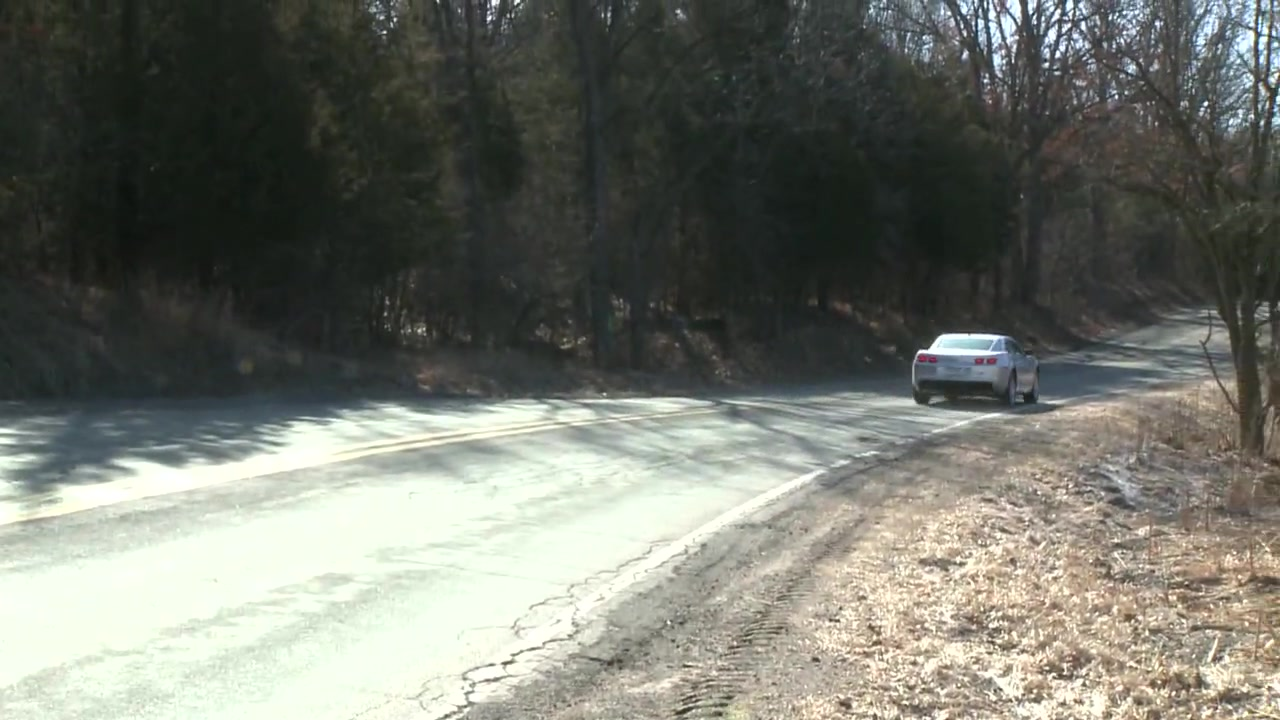car: (913, 331, 1047, 406)
